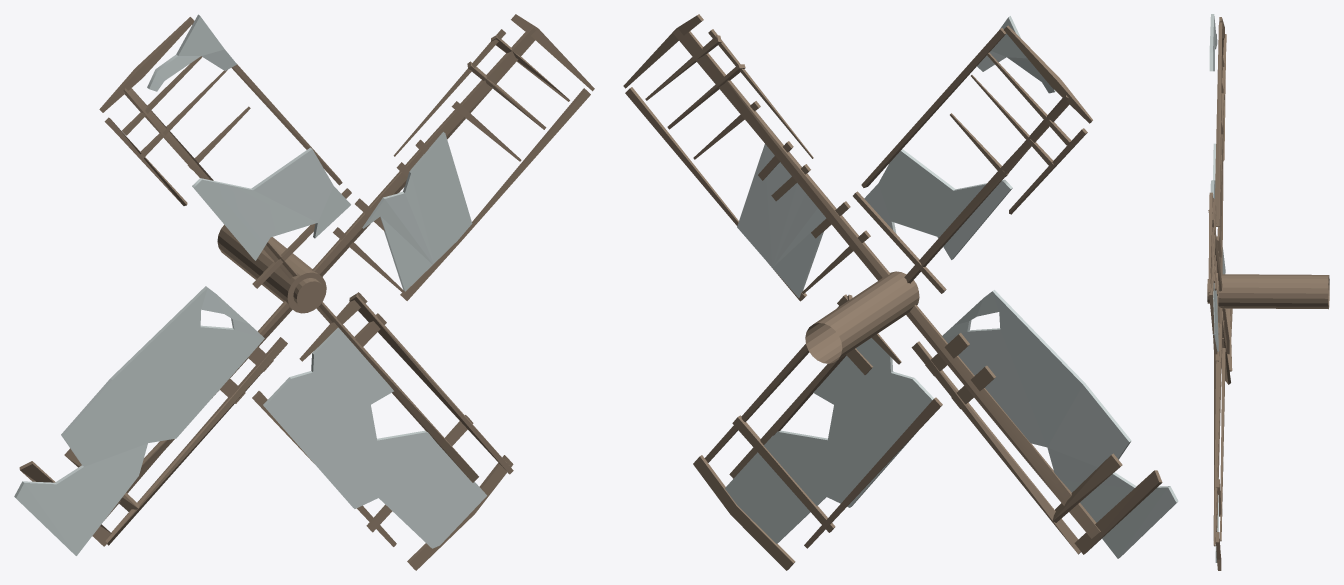
File: SM_WindMillCore.fbx
3 renders of one model, left to right at view 1: azimuth 30°, elevation 25°; view 2: azimuth 150°, elevation 25°; view 3: azimuth 270°, elevation 25°, orthographic. The views are drawn at different scales.
Visible parts, largest first — view 1: SM_WindMillCore; view 2: SM_WindMillCore; view 3: SM_WindMillCore.
Boxes of the visible parts, x1,y1,x2,y2 form: SM_WindMillCore: (14,14,594,570); SM_WindMillCore: (623,14,1178,570); SM_WindMillCore: (1207,14,1329,570).
Bounding box in the file's own units: 1520 × 1559 × 365.
